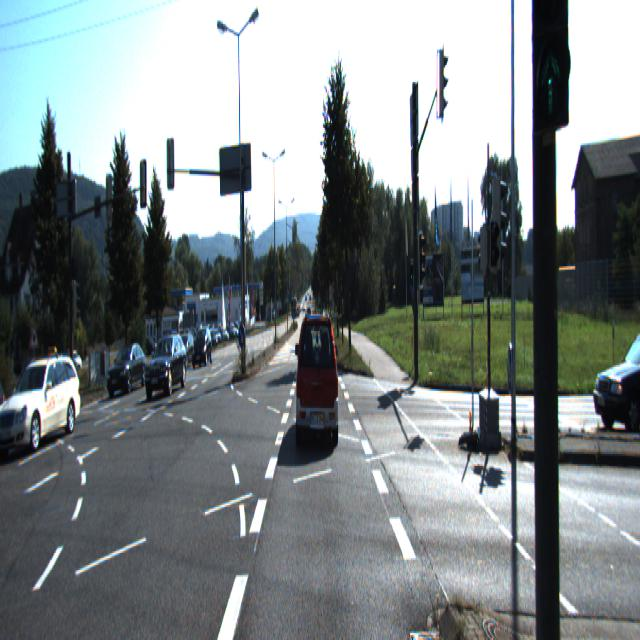Car: (0, 357, 81, 459), (590, 312, 640, 436), (296, 313, 339, 448), (143, 334, 188, 398), (107, 343, 146, 399), (191, 326, 212, 369)
